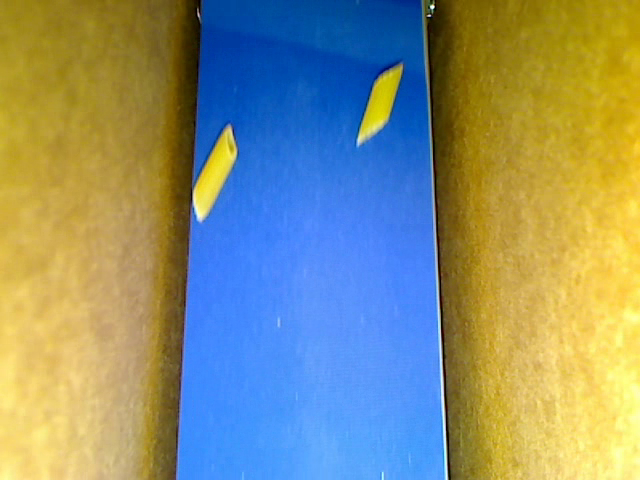penne: (190, 123, 238, 223), (357, 63, 402, 144)
